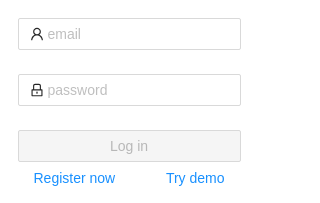
Scenario: Форма логина › Кнопка залогиниться задизейблена если не прошла валидация
This screenshot has width=320, height=203.
Type "test@test.com" into the field with placeholder "email" at (138, 34), box [48, 23, 228, 45]
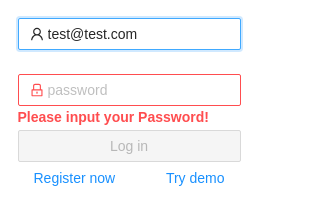
Expected: the button "Log in" is disabled, [18, 130, 240, 162]
Type "123123" into the password field with placeholder "password" at (138, 90), box [48, 79, 228, 101]
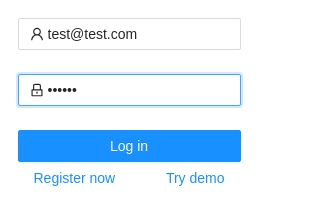
Now the button "Log in" is enabled, box [18, 130, 240, 162]
